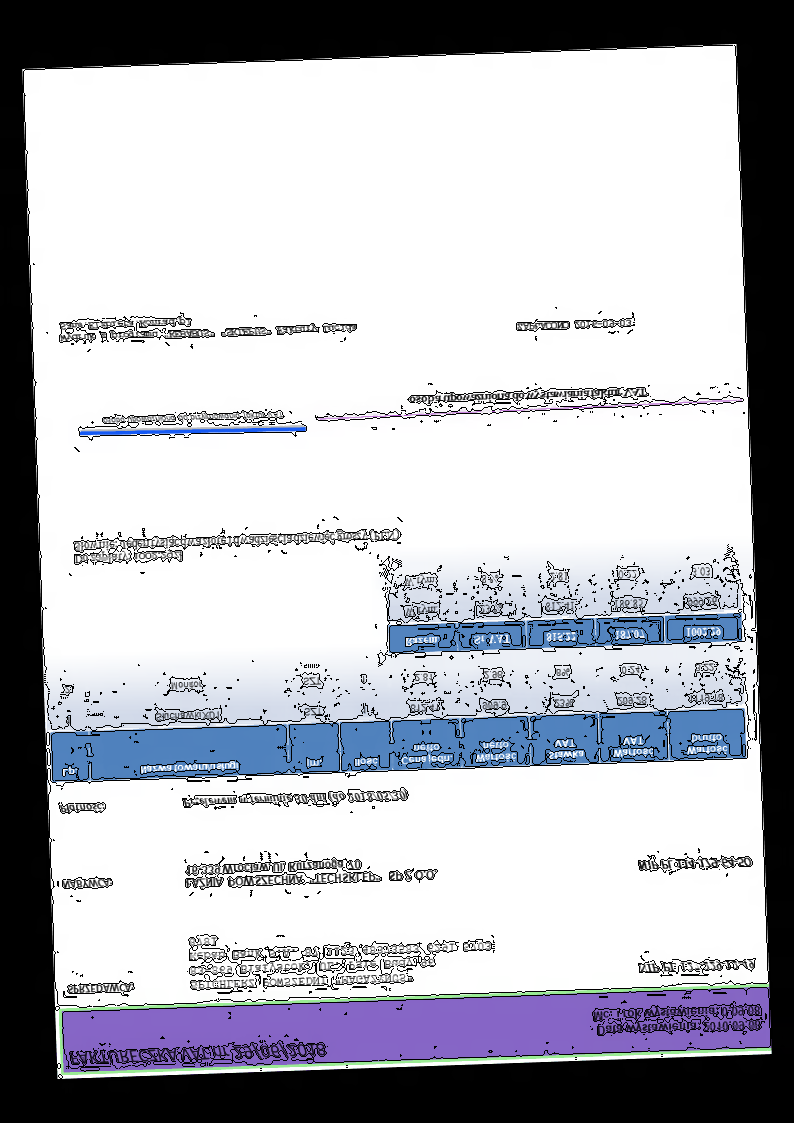Table: (45, 644, 749, 784), (384, 550, 744, 655)
TextBox: (187, 925, 495, 993), (71, 527, 401, 567), (57, 310, 358, 346), (183, 855, 438, 893), (67, 1039, 328, 1069), (590, 1002, 763, 1039), (407, 385, 649, 409), (179, 786, 411, 811), (99, 408, 285, 427), (636, 956, 756, 976), (515, 316, 633, 334), (636, 855, 754, 872), (65, 981, 137, 997), (59, 876, 116, 892), (58, 801, 107, 817)
